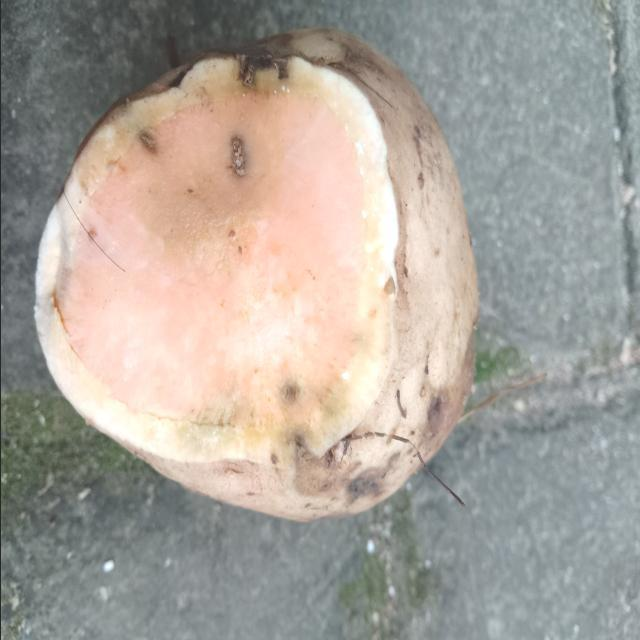Sick Sweet Potato_Tuber Rot: (35, 57, 396, 462)
